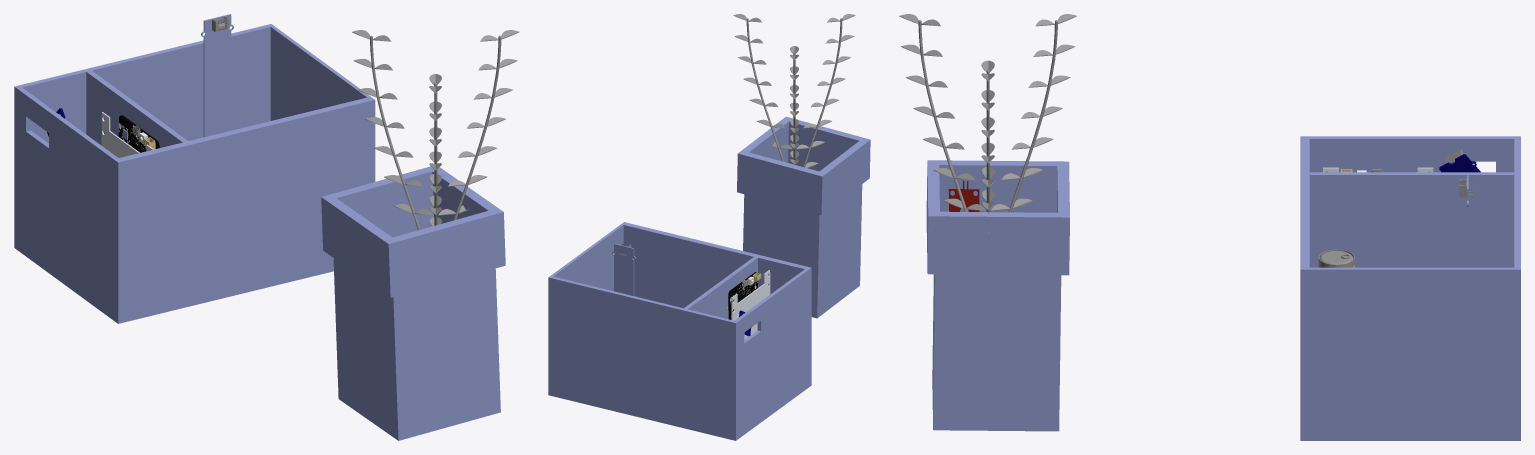
File: Assemblage_initial.obj
3 renders of one model, left to right at view 1: azimuth 30°, elevation 25°; view 2: azimuth 150°, elevation 25°; view 3: azimuth 270°, elevation 25°, orthographic. The views are drawn at different scales.
Parts seen in each view (by area): view 1: empty_569, empty_568, empty_494, empty_433, empty_542, empty_500, empty_32; view 2: empty_569, empty_568, empty_494, empty_433, empty_32, empty_521, empty_500; view 3: empty_569, empty_568, empty_542, empty_521, empty_491.
Boxes of the visible parts, <box> form: empty_569: <box>14,24,375,323</box>; empty_568: <box>321,166,505,440</box>; empty_494: <box>201,14,233,137</box>; empty_433: <box>101,112,153,157</box>; empty_542: <box>370,35,420,230</box>; empty_500: <box>453,35,501,220</box>; empty_32: <box>118,115,159,152</box>; empty_569: <box>548,222,811,440</box>; empty_568: <box>737,116,870,318</box>; empty_494: <box>612,243,635,295</box>; empty_433: <box>731,270,770,339</box>; empty_32: <box>728,272,757,319</box>; empty_521: <box>803,18,842,167</box>; empty_500: <box>746,18,784,161</box>; empty_569: <box>1300,136,1520,440</box>; empty_568: <box>926,160,1069,431</box>; empty_542: <box>1008,20,1057,212</box>; empty_521: <box>918,20,967,211</box>; empty_491: <box>1318,249,1354,267</box>.
Size of the model in its own units: 200 by 265 by 395.
